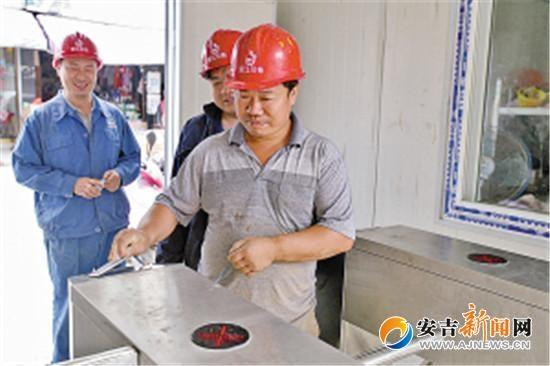helmet: (227, 23, 308, 92), (51, 28, 108, 69), (198, 27, 242, 74)
no_wear: (185, 131, 355, 336)
wear: (27, 101, 128, 231)
